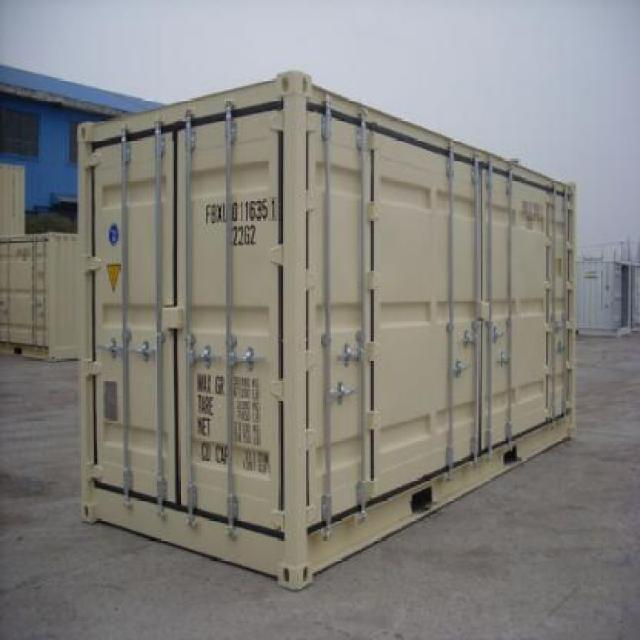ISO: (231, 226, 258, 244)
container_number: (204, 189, 286, 224)
